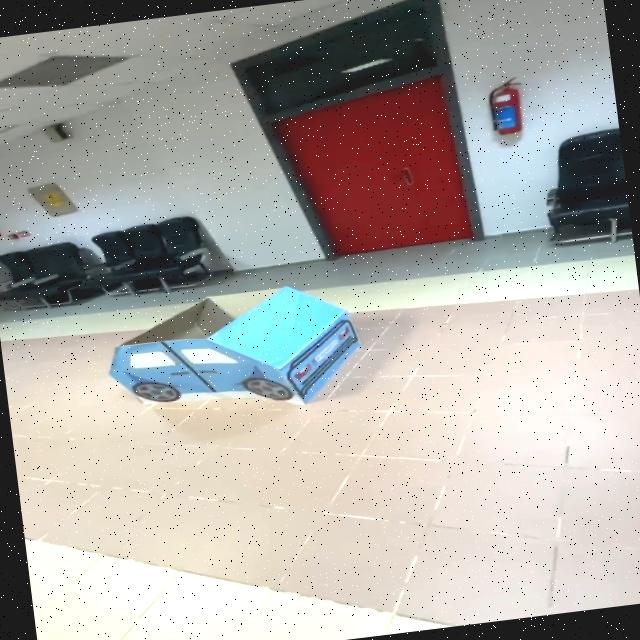blue_car: (76, 267, 392, 432)
